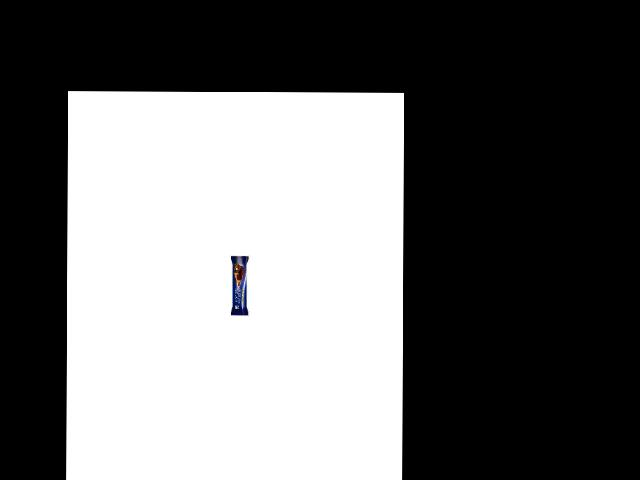chocolate: (224, 248, 249, 316)
